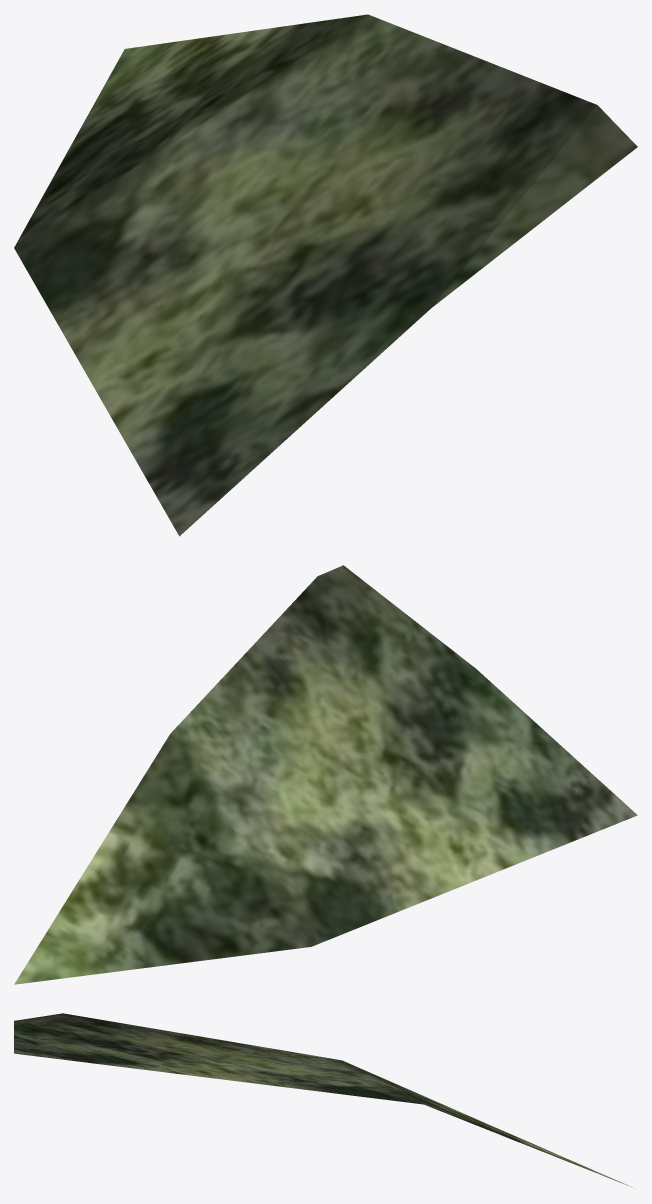
3 renders of one model, top to bottom at view 1: azimuth 30°, elevation 25°; view 2: azimuth 150°, elevation 25°; view 3: azimuth 270°, elevation 25°, orthographic. The views are drawn at different scales.
Bounding box in the file's own units: 1.42 × 0.8596 × 2.76.
Materials: 1 (1 with a texture image).
